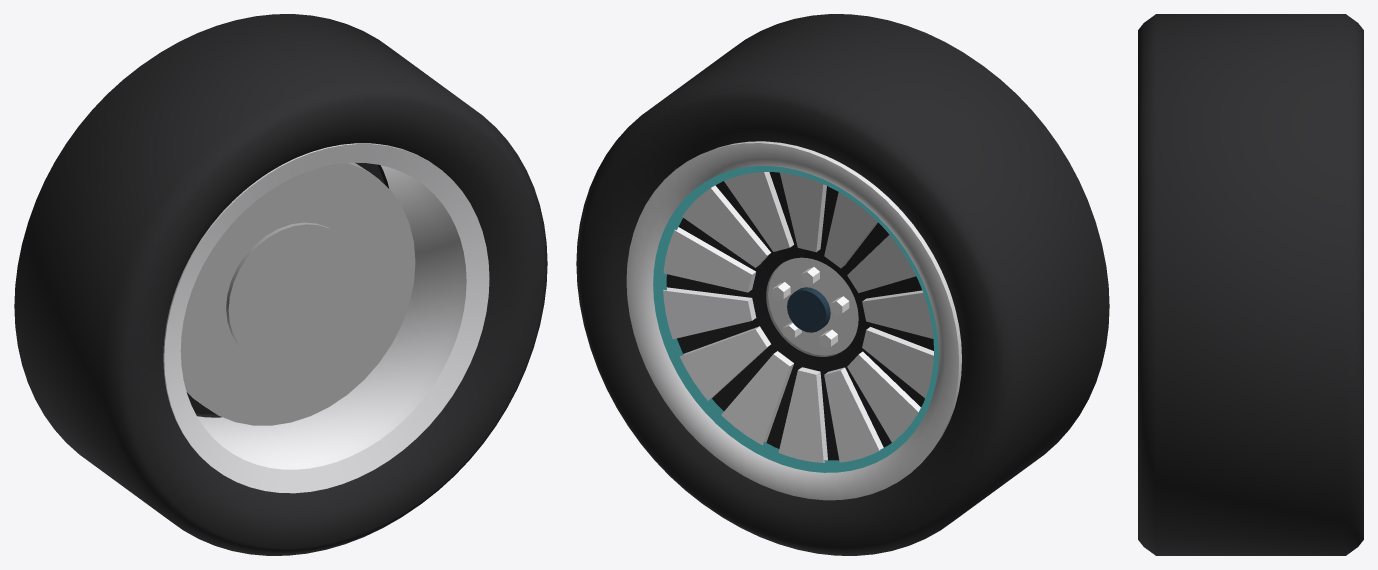
Rendered from SM_NeomGlide_Wheel_R.fbx.
3 renders of one model, left to right at view 1: azimuth 30°, elevation 25°; view 2: azimuth 150°, elevation 25°; view 3: azimuth 270°, elevation 25°, orthographic. The views are drawn at different scales.
Parts seen in each view (by area): view 1: Wheel_RL; view 2: Wheel_RL; view 3: Wheel_RL.
Boxes of the visible parts, box(x1,y1,x2,y2) form: Wheel_RL: box(14, 14, 547, 555); Wheel_RL: box(576, 14, 1109, 555); Wheel_RL: box(1138, 14, 1363, 555).
Size of the model in its own units: 72 by 72 by 30.
